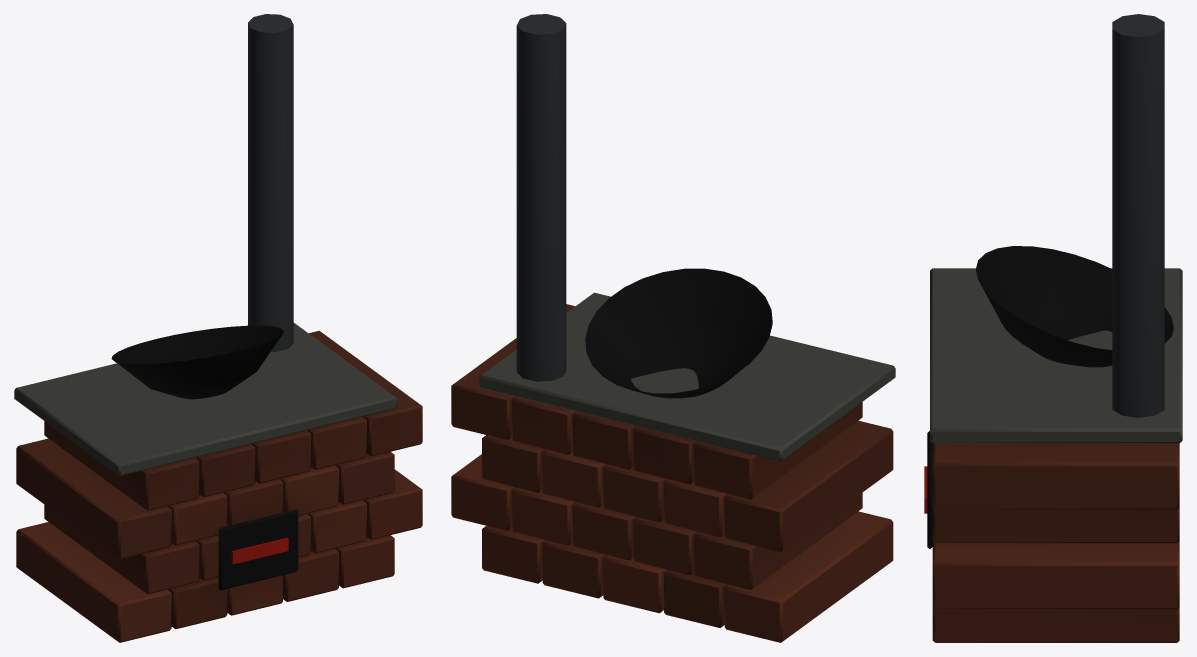
The model's file is hz-tea-wok-stove.glb.
The picture shows the model from 3 angles, left to right: view 1: azimuth 30°, elevation 25°; view 2: azimuth 150°, elevation 25°; view 3: azimuth 270°, elevation 25°; orthographic projection. The views are drawn at different scales.
Visible parts, largest first — view 1: brick__stone, chimney__paint, wok__metal, fire-door__metal; view 2: brick__stone, chimney__paint, wok__metal; view 3: brick__stone, chimney__paint, wok__metal, fire-door__metal.
Boxes of the visible parts, x1,y1,x2,y2 form: brick__stone: [14, 323, 422, 642]; chimney__paint: [248, 14, 293, 351]; wok__metal: [111, 325, 283, 399]; fire-door__metal: [218, 509, 298, 590]; brick__stone: [451, 292, 895, 642]; chimney__paint: [516, 14, 566, 381]; wok__metal: [585, 268, 772, 398]; brick__stone: [930, 268, 1182, 642]; chimney__paint: [1112, 14, 1164, 417]; wok__metal: [975, 246, 1173, 367]; fire-door__metal: [924, 431, 932, 548].
Bounding box in the file's own units: 1.53 × 2.4 × 0.94.
